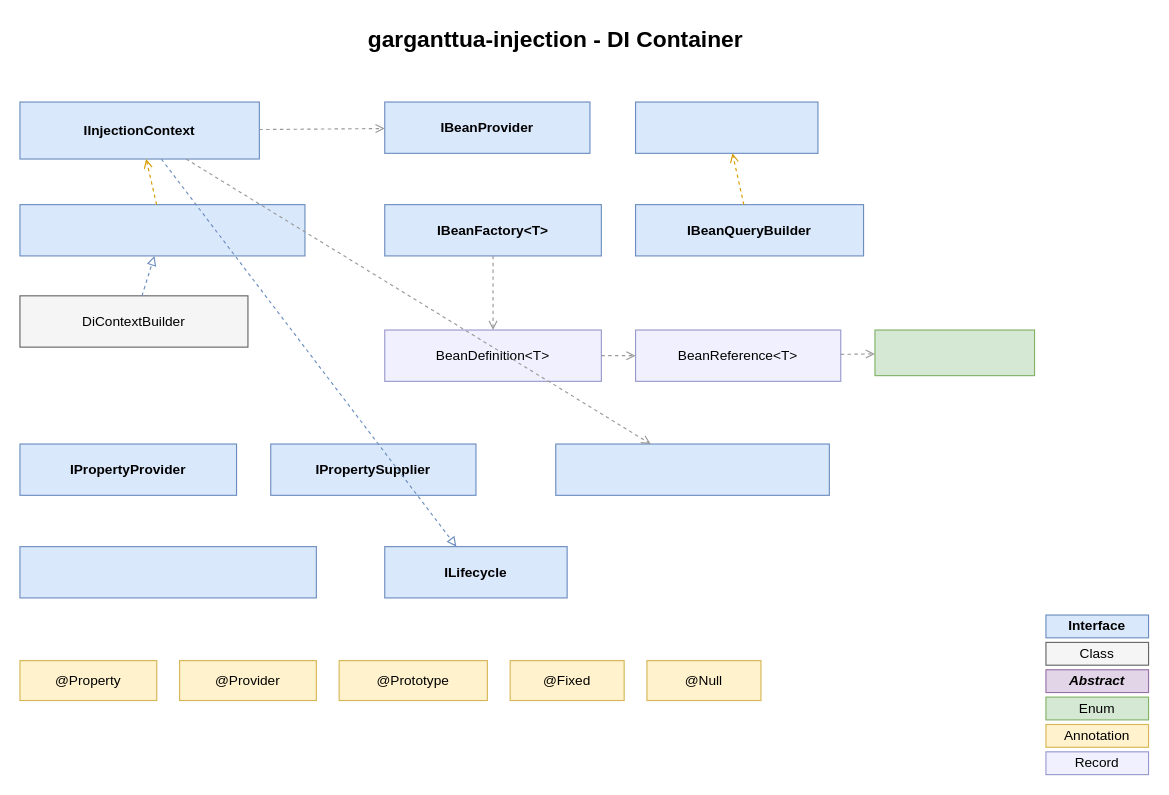
Some shapes in this 1169 by 795 pixel diagram are drawn without their labels. The box of each missing label's shape, as (x1, y1, x2, y2) in pixels:
BeanStrategy: (874, 329, 1035, 376)
IBeanQuery: (634, 101, 818, 153)
IDiChildContextFactory: (555, 443, 829, 495)
IInjectableElementResolver: (19, 545, 316, 598)
IInjectionContextBuilder: (19, 203, 305, 256)
